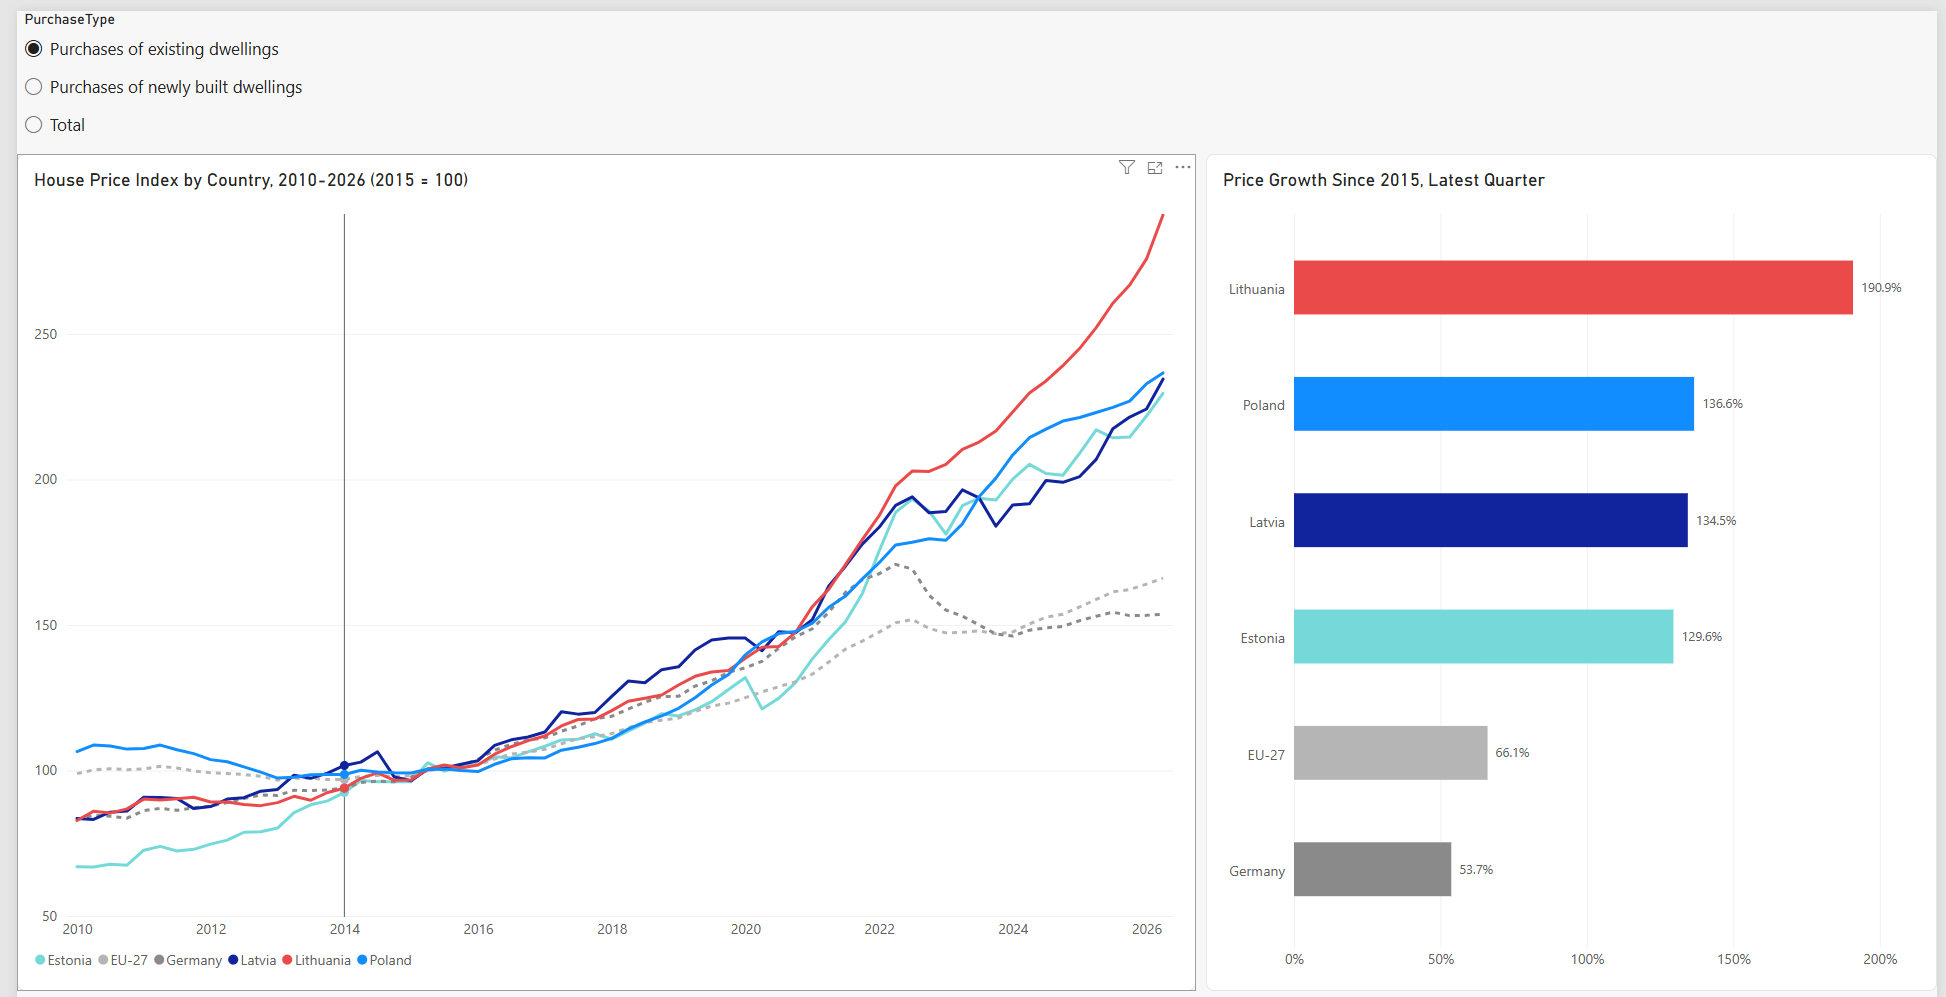

The dashboard page shown, as its layout file describes it:
{"tool":"powerbi","page":{"name":"Overview","canvas":[1920,1080],"ordinal":0},"visuals":[{"type":"lineChart","title":"House Price Index by Country, 2010-2026 (2015 = 100)","fields":{"Category":["house_price_clean.QuarterStart"],"Series":["house_price_clean.Country"],"Y":["house_price_clean.Index"]},"box":[0,143.1,1178.7,837],"z":1},{"type":"slicer","fields":{"Values":["house_price_clean.PurchaseType"]},"box":[0,0,1920,143.1],"z":2},{"type":"clusteredBarChart","title":"Price Growth Since 2015, Latest Quarter","fields":{"Category":["house_price_clean.Country"],"Y":["house_price_clean.Growth Since 2015 %"]},"box":[1189.4,143.1,730.6,837],"z":4}]}

Visuals, with their boxes on the page's 1920x1080 design canvas (x1, y1, x2, y2). These are canvas units, not pixel positions in the 1946x997 screenshot, which may show the page scaled, cropped or inside an application window:
"House Price Index by Country, 2010-2026 (2015 = 100)" lineChart: l=0, t=143, r=1179, b=980
slicer - house_price_clean.PurchaseType: l=0, t=0, r=1920, b=143
"Price Growth Since 2015, Latest Quarter" clusteredBarChart: l=1189, t=143, r=1920, b=980
